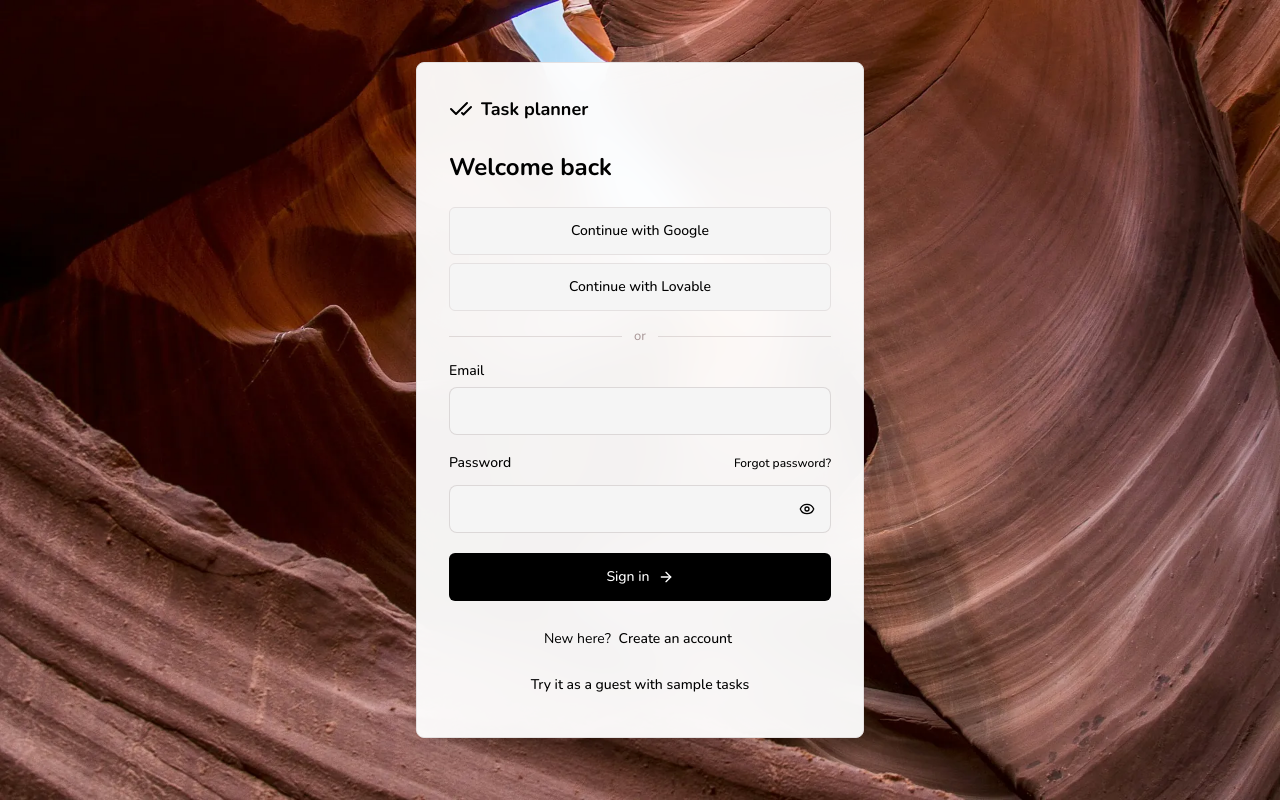
Test: account pages › recovers from network errors without losing form input
The image size is (1280, 800).
Type "alex@example.com" into the field labelled "Email" at (640, 411), box [449,387,831,435]
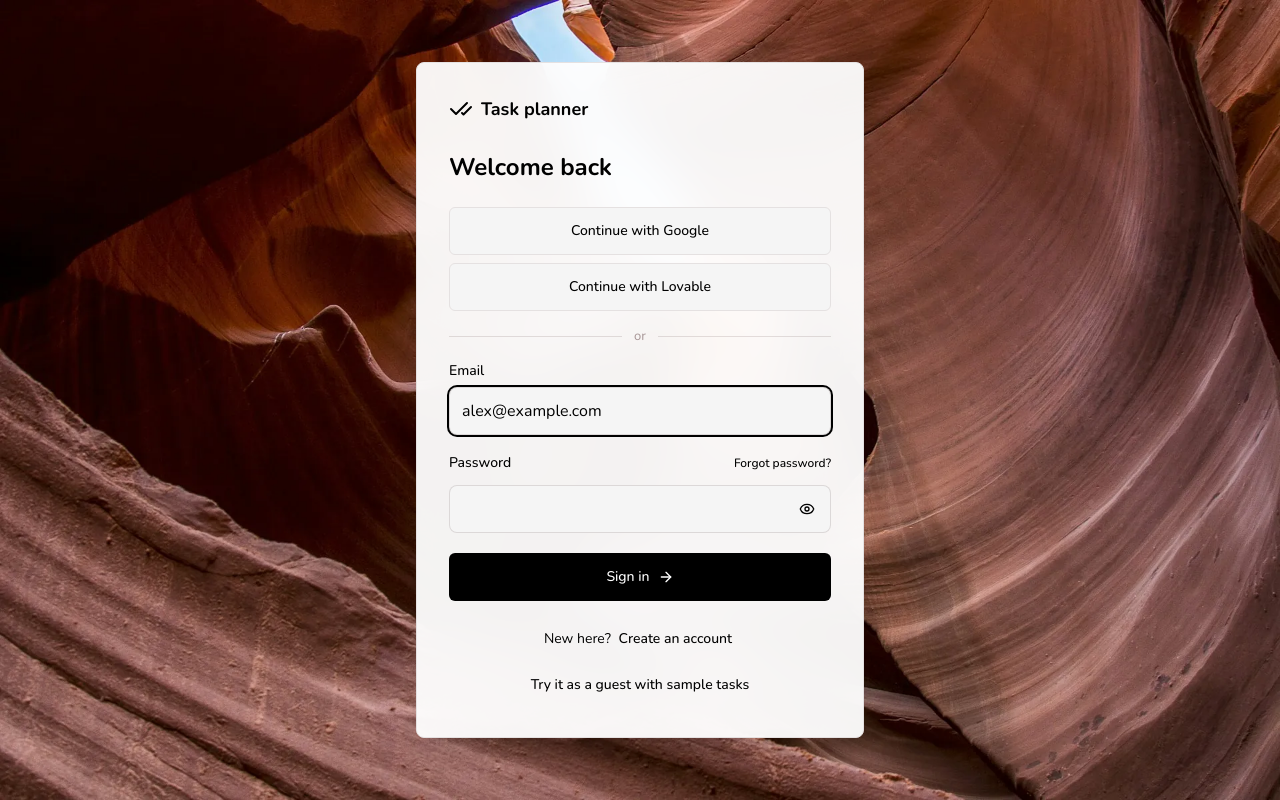
Type "secret123" into the password field labelled "Password" at (640, 509), box [449,485,831,533]
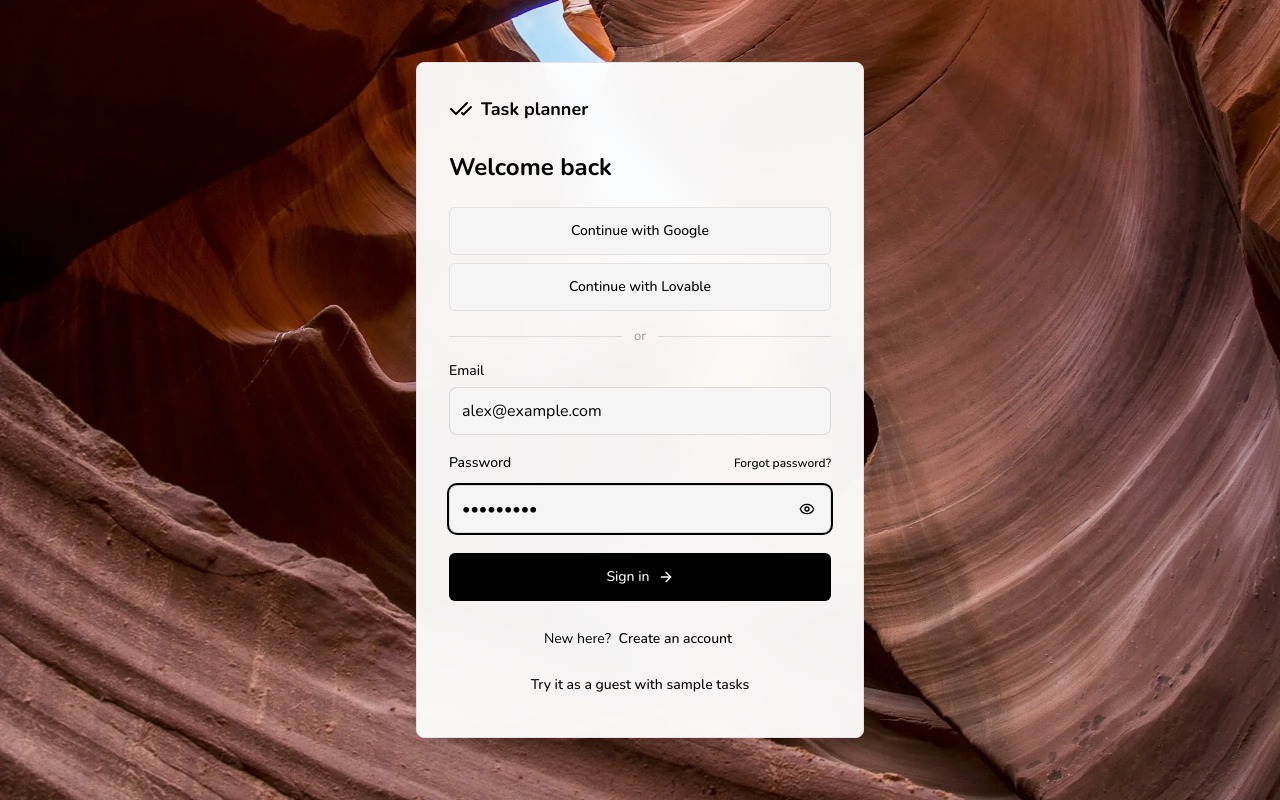
Click the button "Sign in" at (640, 577), box [449,553,831,601]
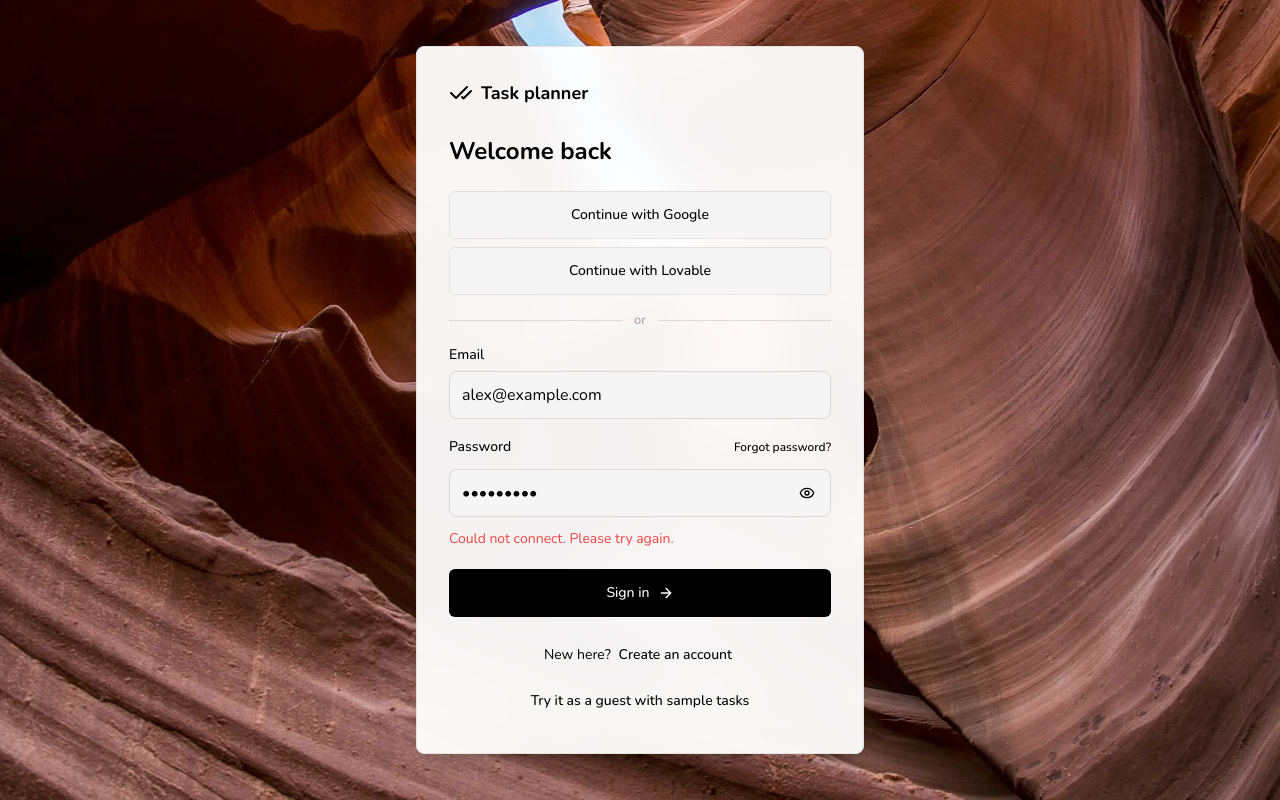
Check: the button "Sign in" is enabled, box [449,569,831,617]
Check: the message "Could not connect. Please try again." is shown, box [449,529,674,548]
